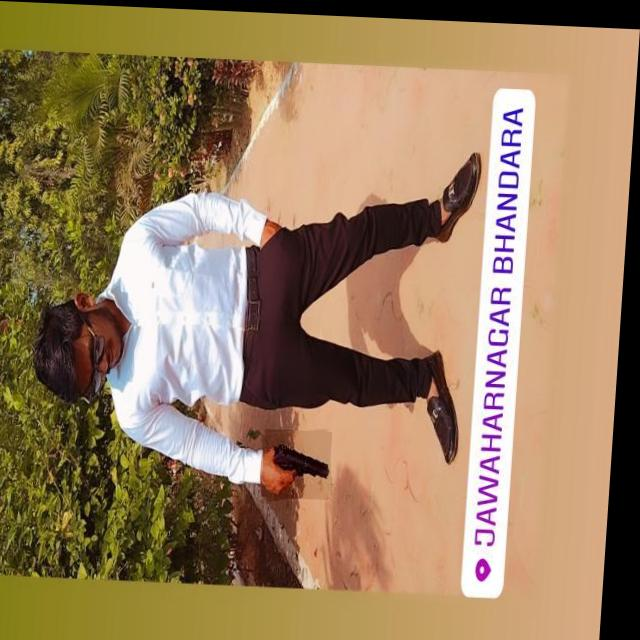handgun: (266, 423, 340, 497)
